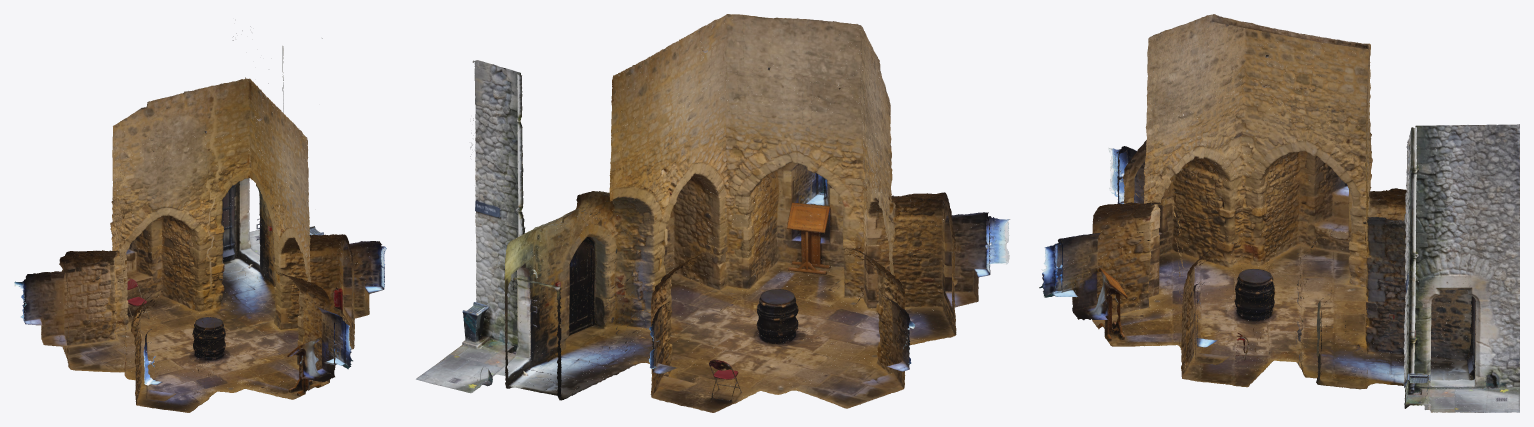
The model's file is salt_tower_mobile.glb.
3 renders of one model, left to right at view 1: azimuth 30°, elevation 25°; view 2: azimuth 150°, elevation 25°; view 3: azimuth 270°, elevation 25°, orthographic. The views are drawn at different scales.
Visible parts, largest first — view 1: Object_8, Object_6, Object_7, Object_13, Object_12, Object_9, Object_10, Object_11, Object_5, Object_4, Object_14; view 2: Object_11, Object_10, Object_7, Object_9, Object_4, Object_12, Object_14, Object_5, Object_8, Object_6, Object_13; view 3: Object_4, Object_10, Object_8, Object_11, Object_14, Object_12, Object_5, Object_9, Object_13, Object_7, Object_6.
Part boxes in pixels (x1,y1,x2,y2): Object_8: (14,77,262,412); Object_6: (111,144,379,346); Object_7: (112,79,319,325); Object_13: (58,151,354,349); Object_12: (112,127,323,391); Object_9: (62,88,303,398); Object_10: (110,134,308,369); Object_11: (111,118,319,392); Object_5: (237,65,385,395); Object_4: (110,26,386,399); Object_14: (83,148,227,411); Object_11: (479,14,867,383); Object_10: (420,14,953,402); Object_7: (513,54,866,392); Object_9: (609,19,936,408); Object_4: (416,60,1010,400); Object_12: (450,102,872,390); Object_14: (785,25,1004,366); Object_5: (475,84,846,301); Object_8: (610,71,1000,389); Object_6: (649,174,773,405); Object_13: (561,165,899,412); Object_4: (1056,115,1519,412); Object_10: (1147,41,1519,412); Object_8: (1112,37,1370,295); Object_11: (1136,22,1434,404); Object_14: (1113,14,1361,302); Object_12: (1135,26,1463,412); Object_5: (1039,147,1468,364); Object_9: (1167,14,1357,364); Object_13: (1181,120,1459,387); Object_7: (1137,41,1475,362); Object_6: (1181,105,1406,367).
Bounding box in the file's own units: 9.53 × 6.28 × 10.11.
Materials: 1 (1 with a texture image).
